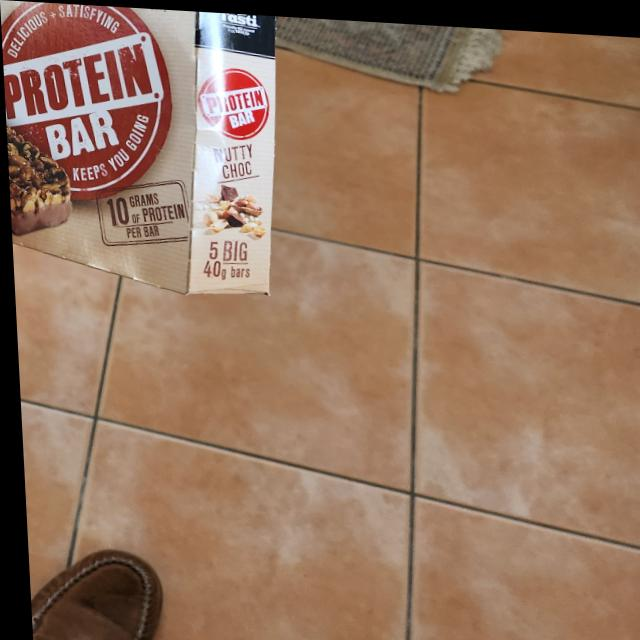muesli bars: (0, 0, 287, 297)
